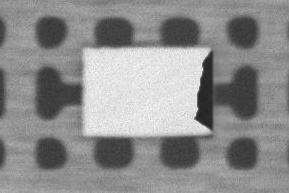DIE_BROKEN: (193, 49, 215, 130)
